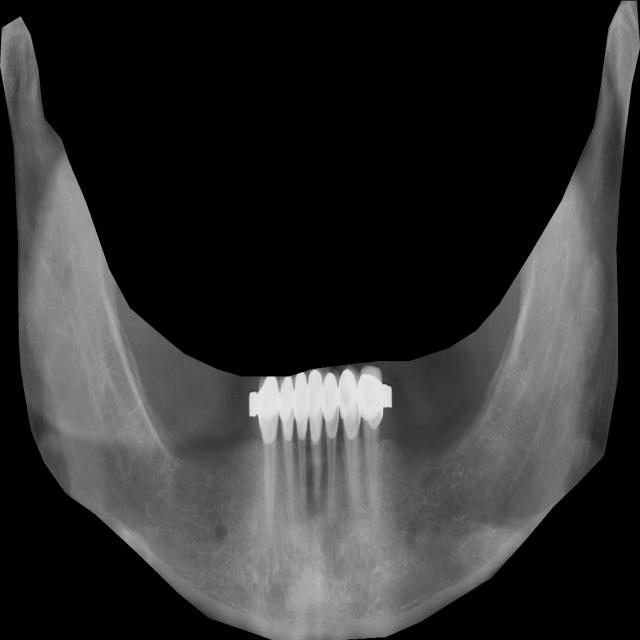mandibula: (0, 1, 640, 640)
